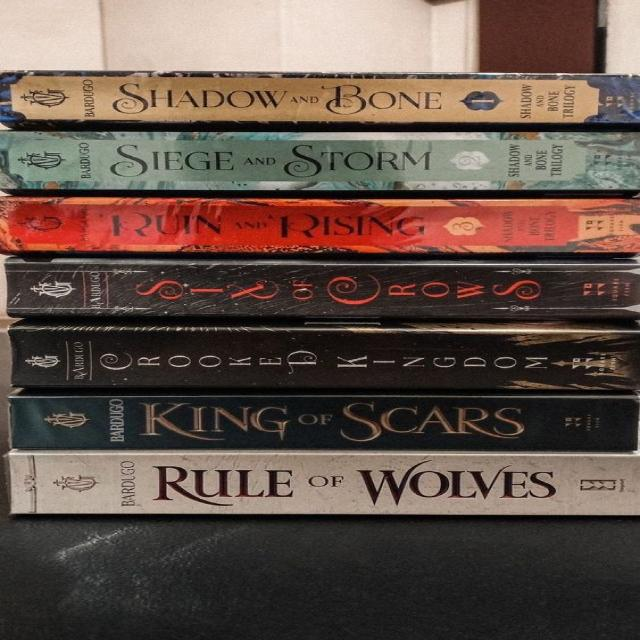book: (0, 131, 640, 199), (3, 258, 640, 323), (7, 456, 637, 519), (12, 395, 640, 454), (0, 198, 640, 252), (13, 331, 638, 386), (0, 74, 639, 124)
